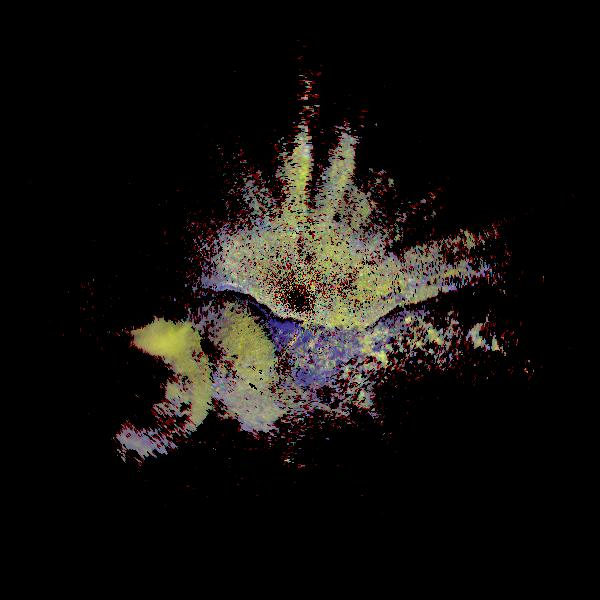roost: (63, 308, 225, 470)
